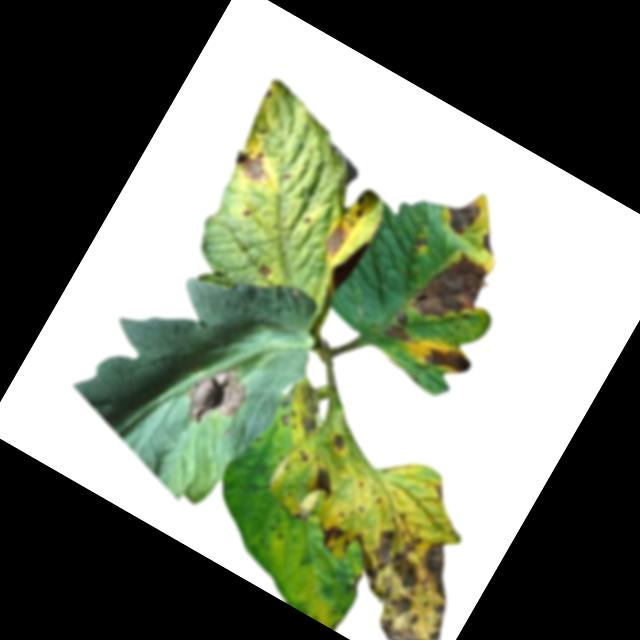Early_blight: (305, 498, 484, 640), (406, 240, 497, 338), (173, 352, 260, 443), (277, 381, 336, 444), (420, 337, 477, 388), (228, 142, 281, 191), (435, 189, 484, 242), (382, 306, 421, 347), (306, 462, 345, 503), (318, 219, 355, 262), (312, 515, 348, 554), (475, 229, 505, 258), (348, 194, 373, 220), (290, 501, 315, 527), (326, 431, 350, 456), (409, 234, 432, 258), (293, 448, 313, 468), (256, 262, 275, 281)
